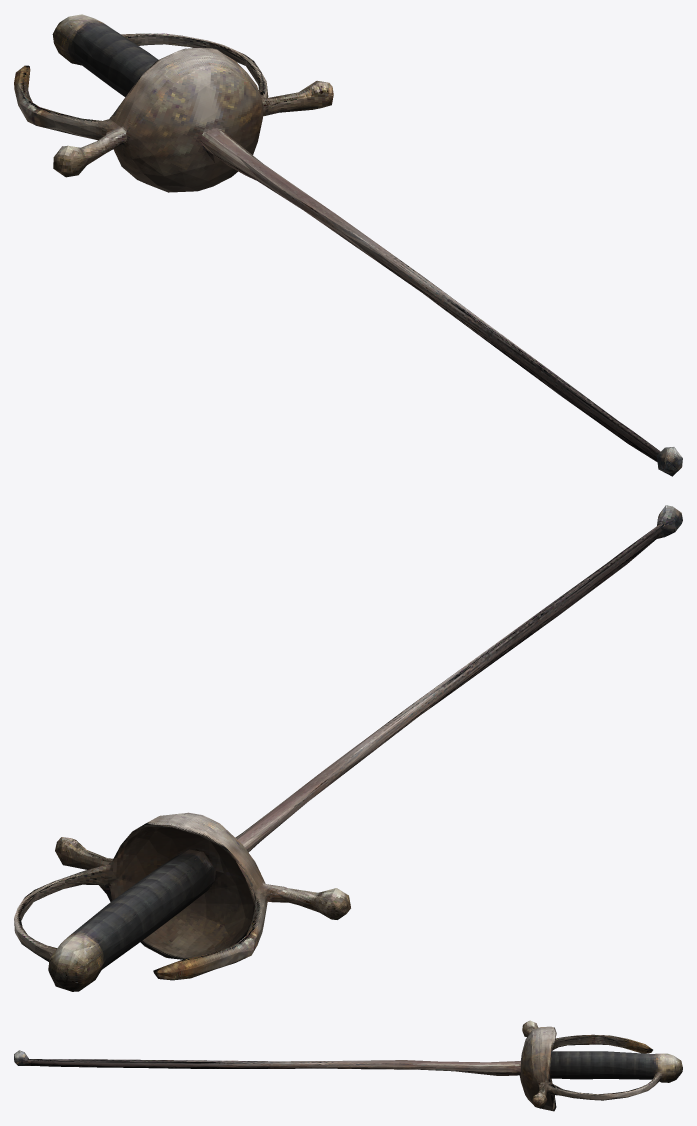
Rendered from fencing_sword_1.glb.
3 renders of one model, top to bottom at view 1: azimuth 30°, elevation 25°; view 2: azimuth 150°, elevation 25°; view 3: azimuth 270°, elevation 25°, orthographic. The views are drawn at different scales.
Visible parts, largest first — view 1: world; view 2: world; view 3: world.
Part boxes in pixels (bbox=[...]): world: bbox=[14, 14, 682, 476]; world: bbox=[14, 505, 682, 991]; world: bbox=[14, 1020, 682, 1111].
Bounding box in the file's own units: 0.2655 × 0.1204 × 0.9905.
Materials: 1 (1 with a texture image).
